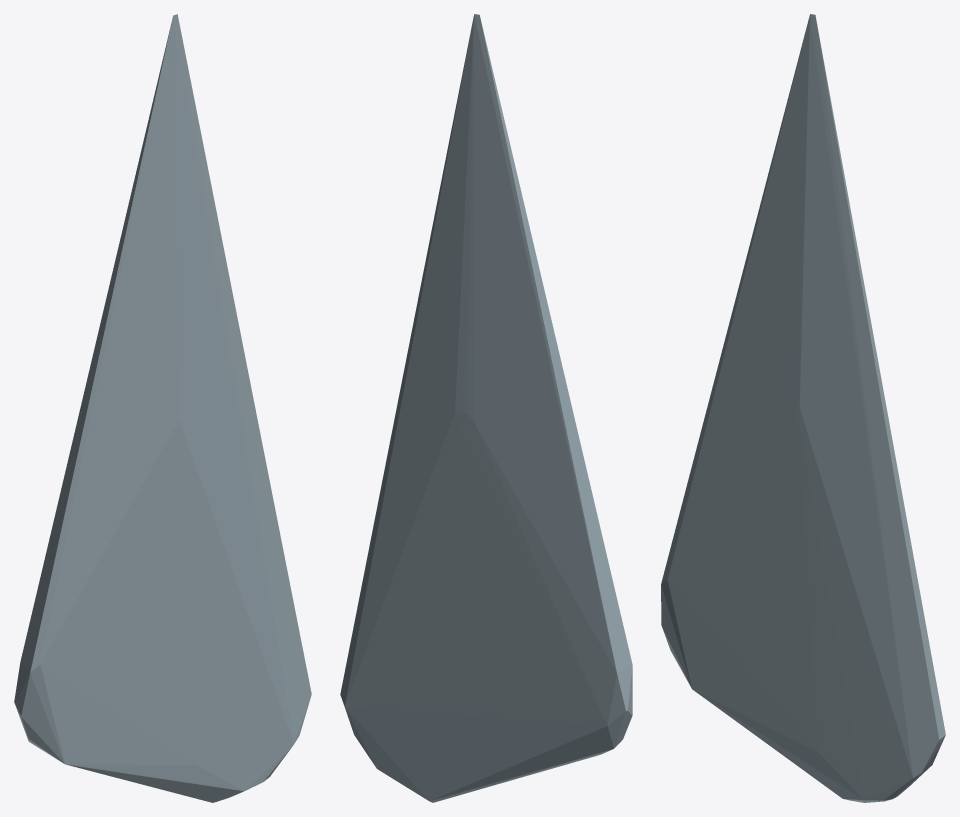
The model's file is utensils_scissors_k01.glb.
3 renders of one model, left to right at view 1: azimuth 30°, elevation 25°; view 2: azimuth 150°, elevation 25°; view 3: azimuth 330°, elevation 25°, orthographic. The views are drawn at different scales.
Visible parts, largest first — view 1: geometry_0; view 2: geometry_0; view 3: geometry_0.
Boxes of the visible parts, x1=… form: geometry_0: x1=14, y1=14, x2=311, y2=802; geometry_0: x1=340, y1=14, x2=632, y2=802; geometry_0: x1=661, y1=14, x2=945, y2=802.
Bounding box in the file's own units: 0.1819 × 0.4788 × 0.0191.
